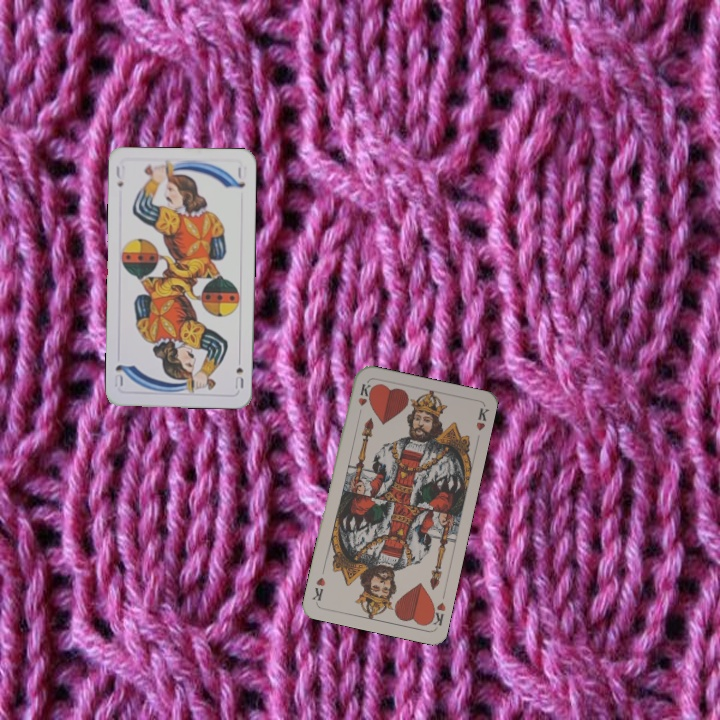HK: (354, 380, 373, 420), (425, 598, 448, 629)
SU: (231, 364, 246, 391), (112, 162, 126, 190)
